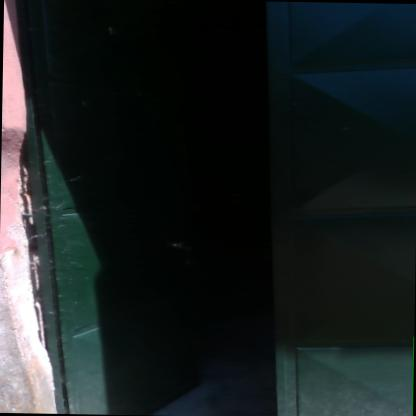semi: (15, 1, 416, 416)
